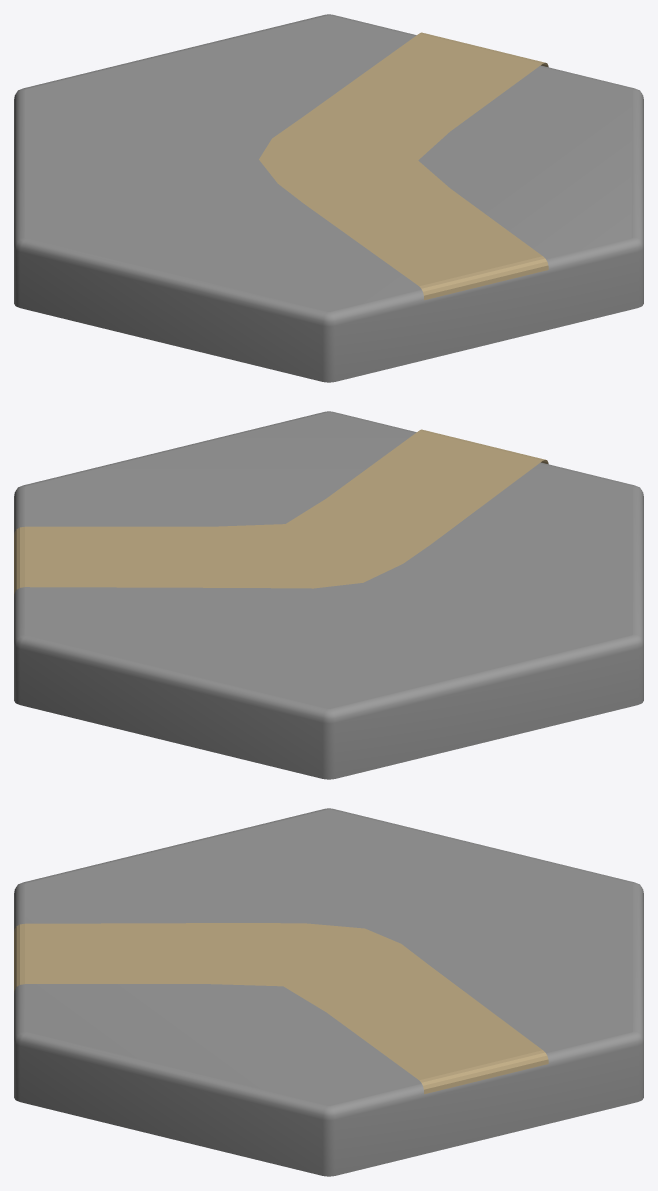
Rendered from Road_TutType3.fbx.
The picture shows the model from 3 angles, top to bottom: view 1: azimuth 30°, elevation 25°; view 2: azimuth 150°, elevation 25°; view 3: azimuth 270°, elevation 25°; orthographic projection.
Visible parts, largest first — view 1: Object009; view 2: Object009; view 3: Object009.
Part boxes in pixels (x1=…): Object009: x1=14, y1=14, x2=643, y2=382; Object009: x1=14, y1=411, x2=643, y2=779; Object009: x1=14, y1=808, x2=643, y2=1176.
Bounding box in the file's own units: 99.5 × 10.59 × 86.6.
